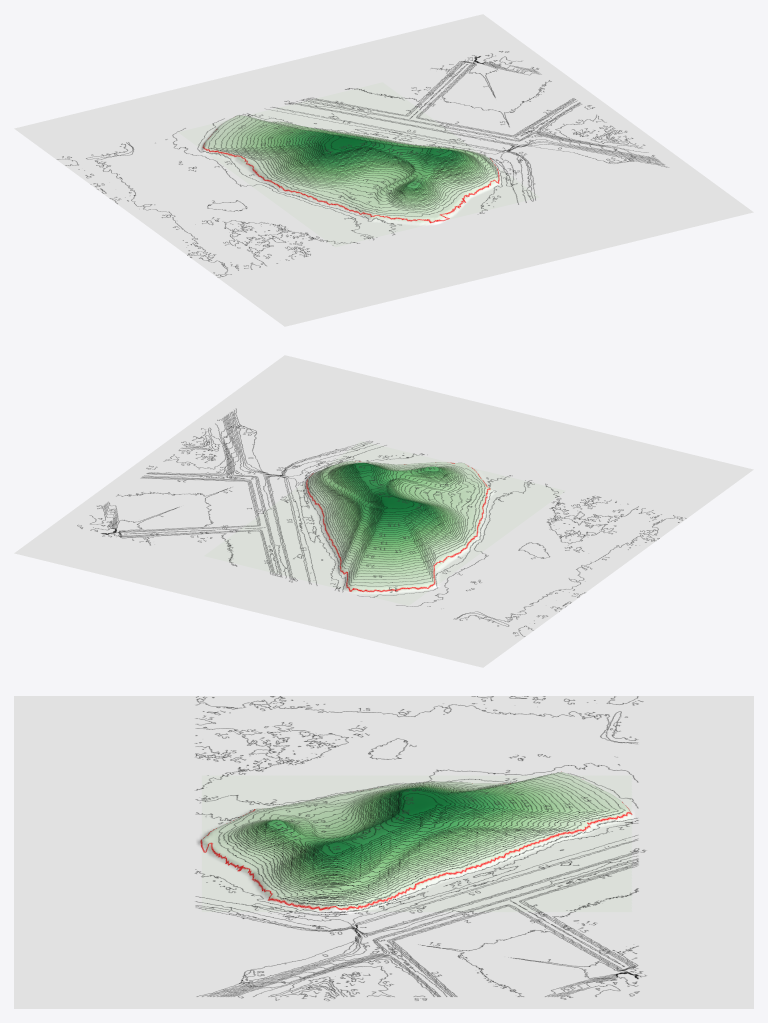
File: sene.gltf
3 renders of one model, top to bottom at view 1: azimuth 30°, elevation 25°; view 2: azimuth 150°, elevation 25°; view 3: azimuth 270°, elevation 25°, orthographic. The views are drawn at different scales.
Parts seen in each view (by area): view 1: Bakke udklip; view 2: Bakke udklip; view 3: Bakke udklip.
Part boxes in pixels (x1=…): Bakke udklip: x1=14, y1=14, x2=753, y2=326; Bakke udklip: x1=14, y1=355, x2=753, y2=667; Bakke udklip: x1=14, y1=696, x2=753, y2=1008.
Bounding box in the file's own units: 424 × 20.84 × 424.
Materials: 1 (1 with a texture image).
